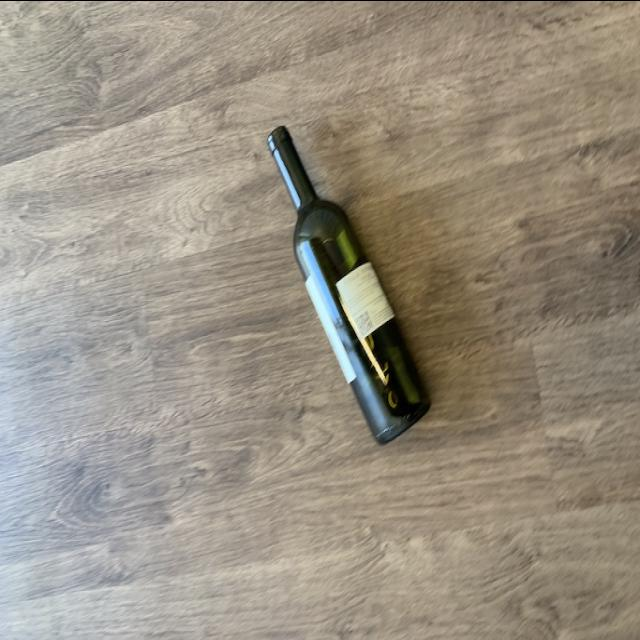Glass Bottle: (268, 124, 435, 454)
